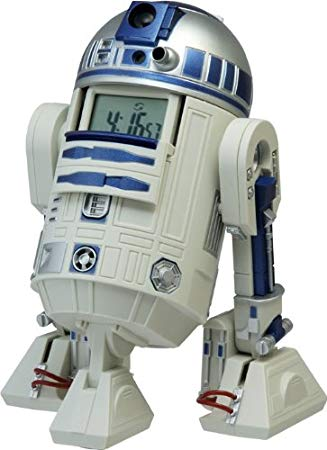r2d2: (1, 1, 326, 448)
